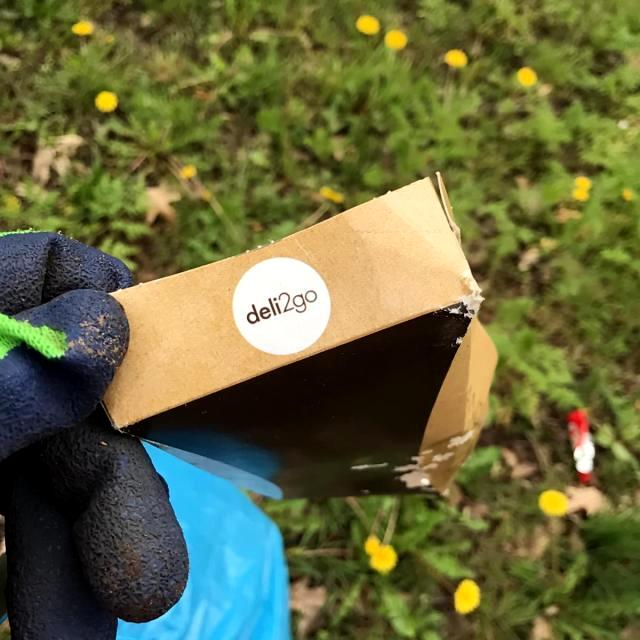Paper: (97, 168, 500, 500)
Plastic: (564, 404, 596, 488)
